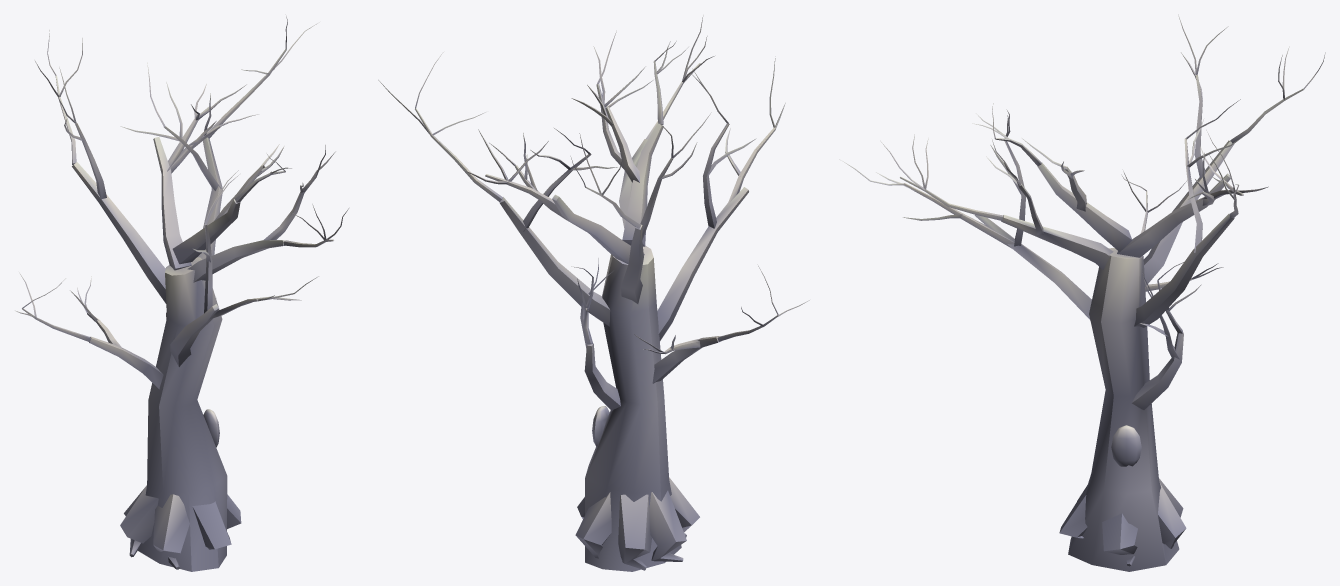
Rendered from tree-D-53HwBs.glb.
3 renders of one model, left to right at view 1: azimuth 30°, elevation 25°; view 2: azimuth 150°, elevation 25°; view 3: azimuth 270°, elevation 25°, orthographic. The views are drawn at different scales.
Visible parts, largest first — view 1: trunk, crown; view 2: trunk, crown; view 3: trunk, crown.
Boxes of the visible parts, bbox=[...] form: trunk: bbox=[120, 257, 241, 571]; crown: bbox=[15, 16, 348, 389]; trunk: bbox=[575, 245, 699, 571]; crown: bbox=[378, 15, 809, 410]; trunk: bbox=[1059, 248, 1186, 571]; crown: bbox=[839, 14, 1325, 409].
Bounding box in the file's own units: 3.71 × 4.69 × 4.15.
